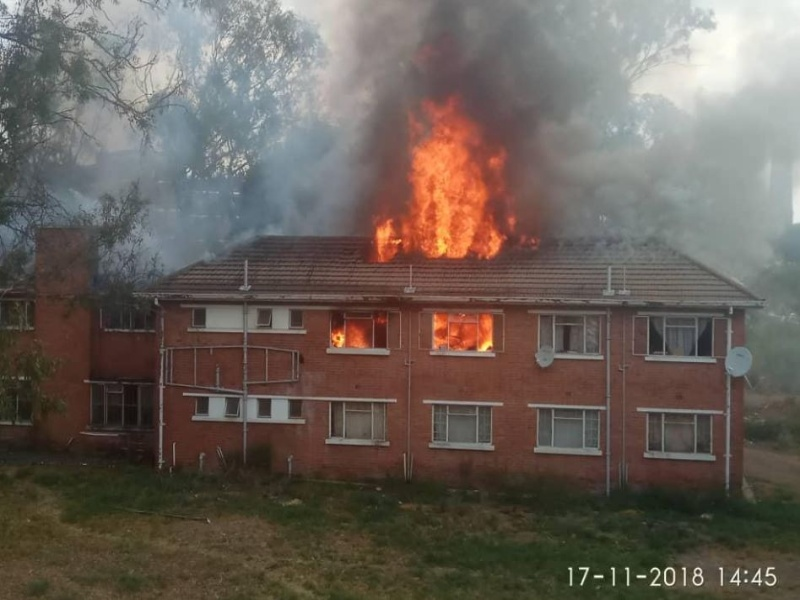smoke: (330, 4, 762, 252)
